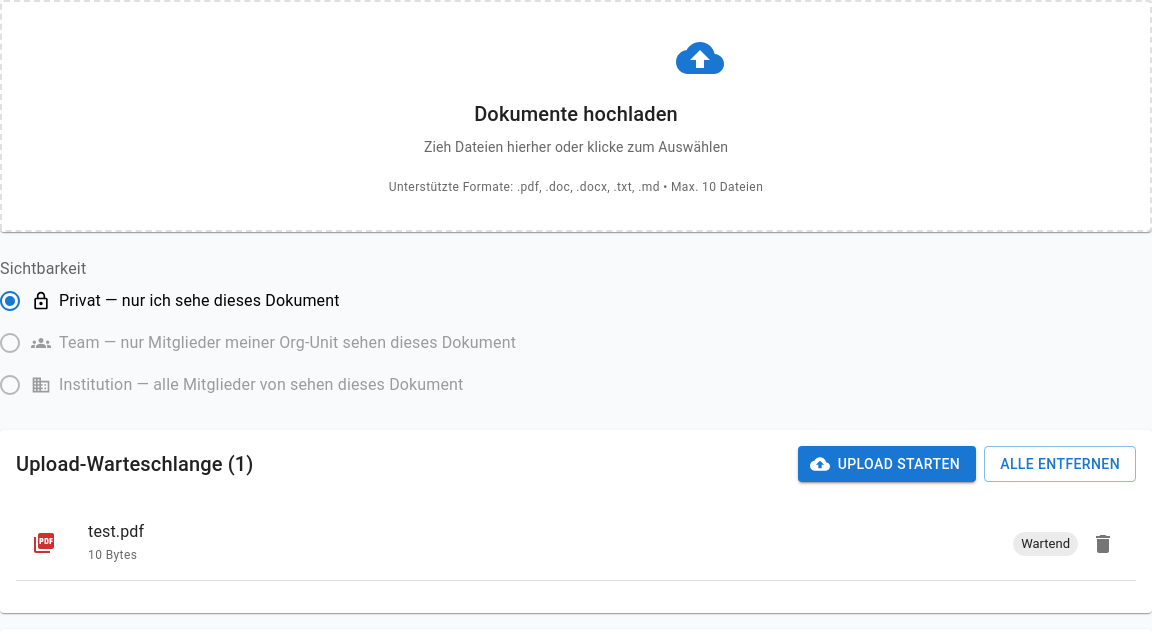
it: DocumentUpload › Errors and retry › retries a failed file
Click the button "Upload starten" at (887, 464), box 798,446 -> 976,482
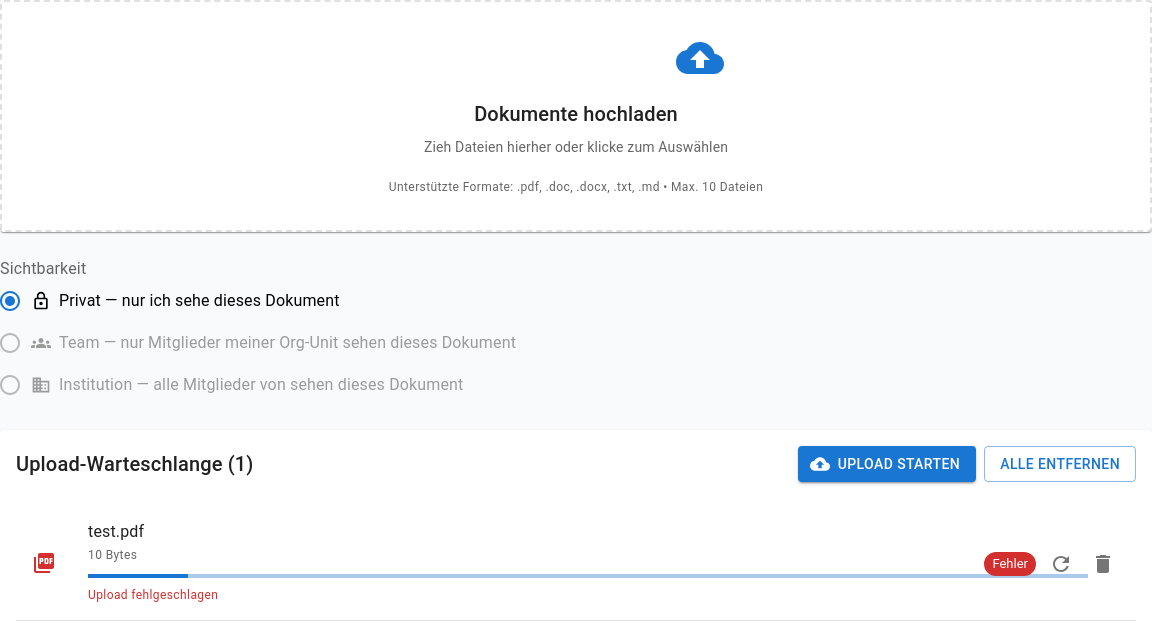
Click the button titled "Erneut versuchen" at (1061, 564), box 1044,547 -> 1078,581
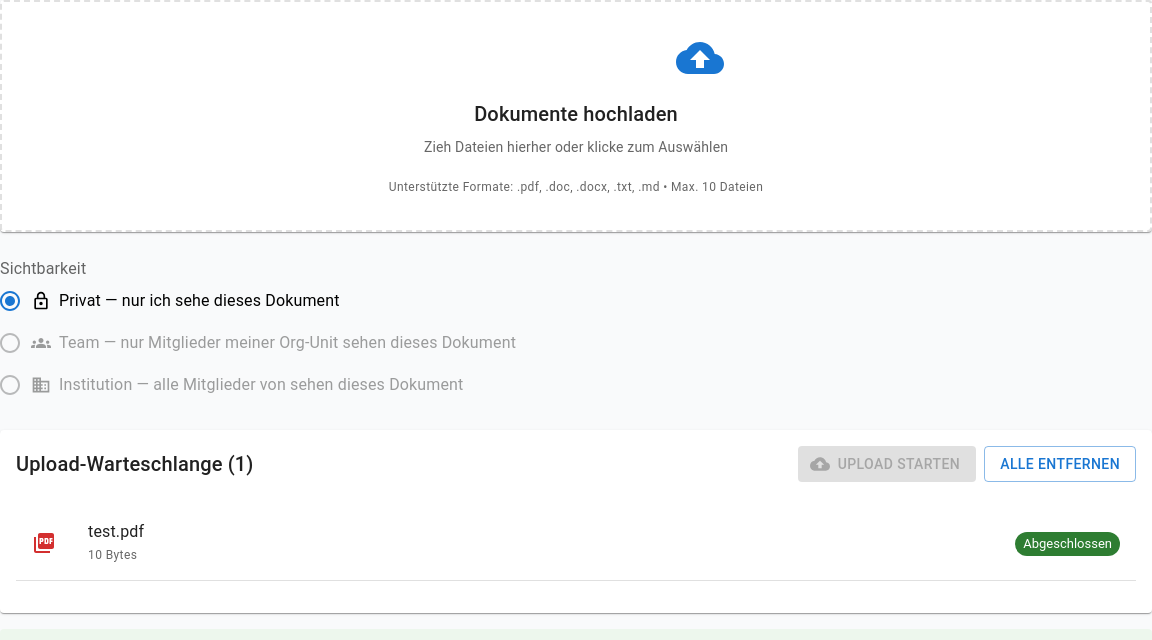
Expected: the text "Abgeschlossen" is shown, 1023,536 -> 1112,551
Expected: the text "Upload fehlgeschlagen" is gone
